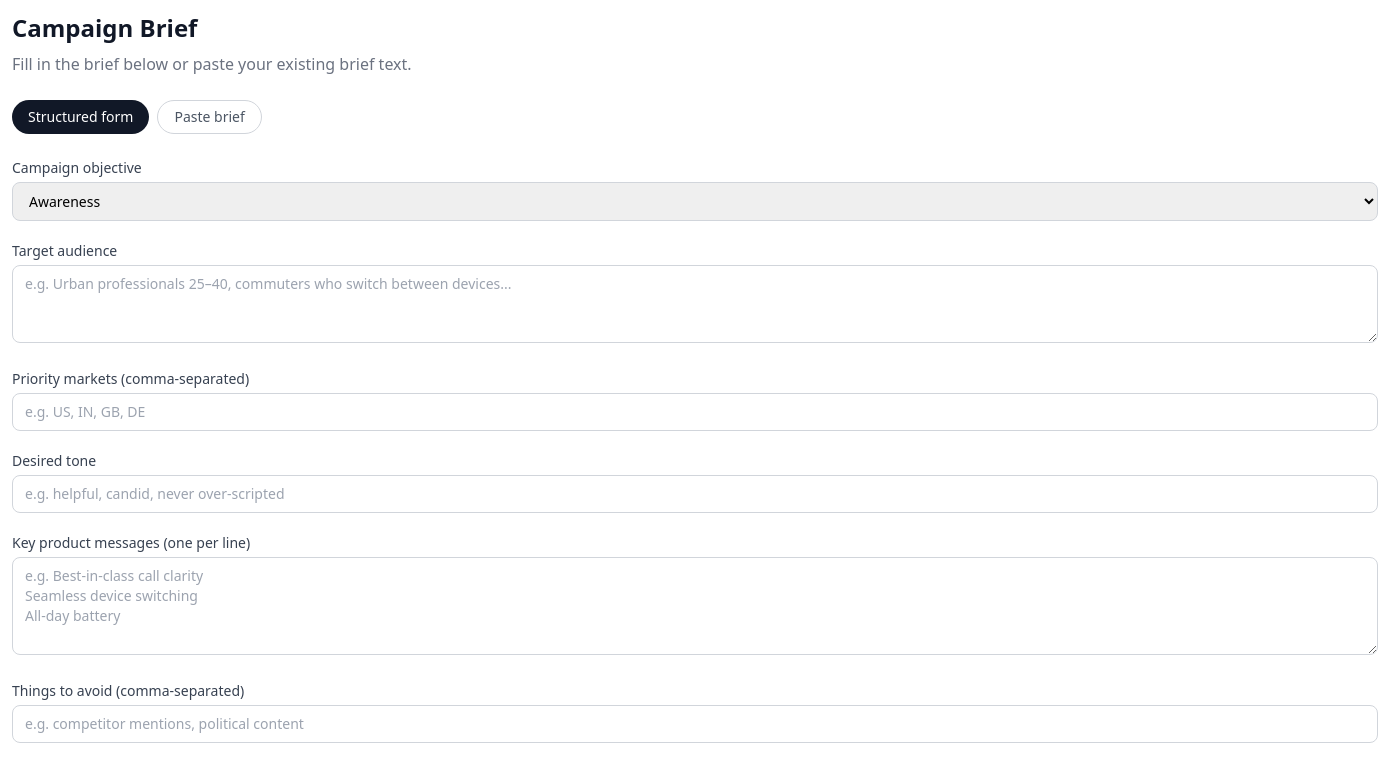
BriefForm › switches to paste mode
Click the button "Paste brief".
click(210, 117)  # box [157,100,262,134]
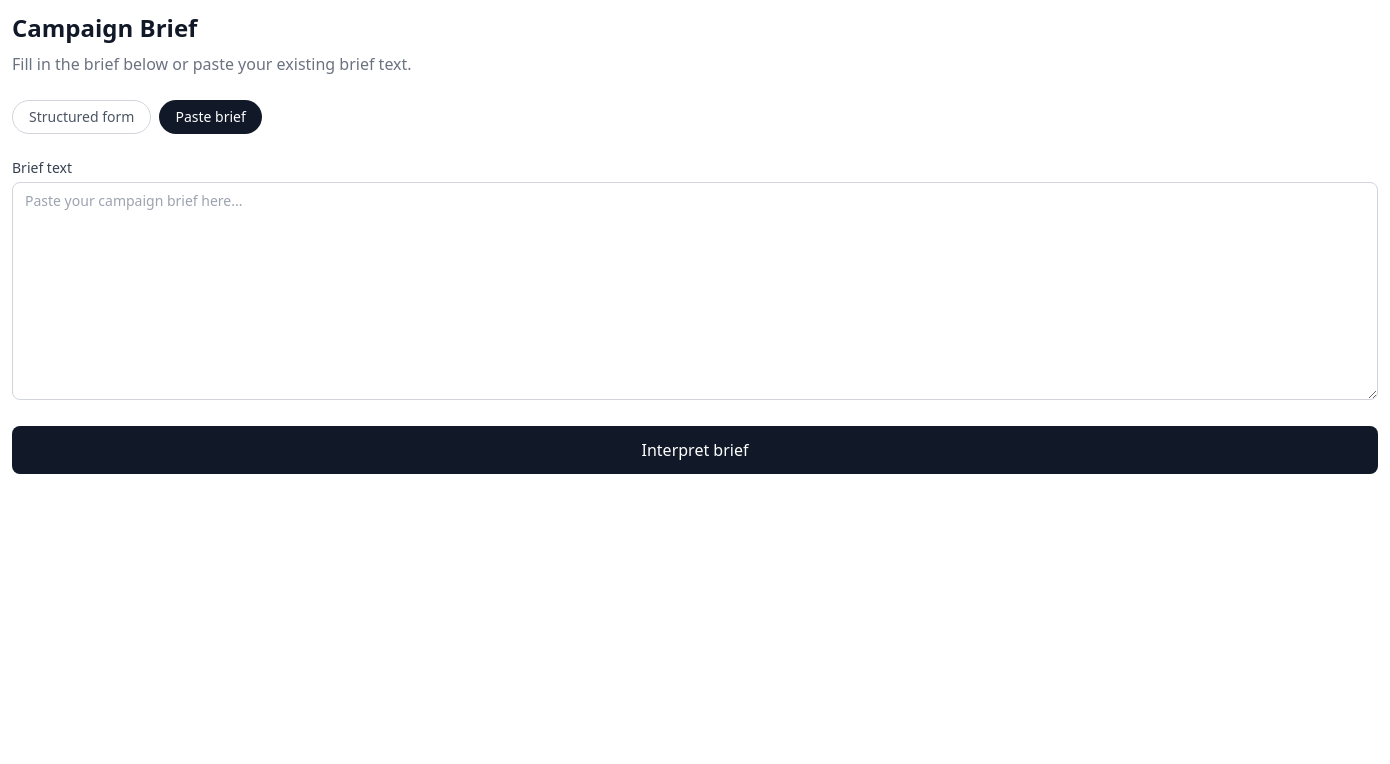
Check: the text box with placeholder "Paste your campaign brief here..." is shown, box [12,182,1378,400]
